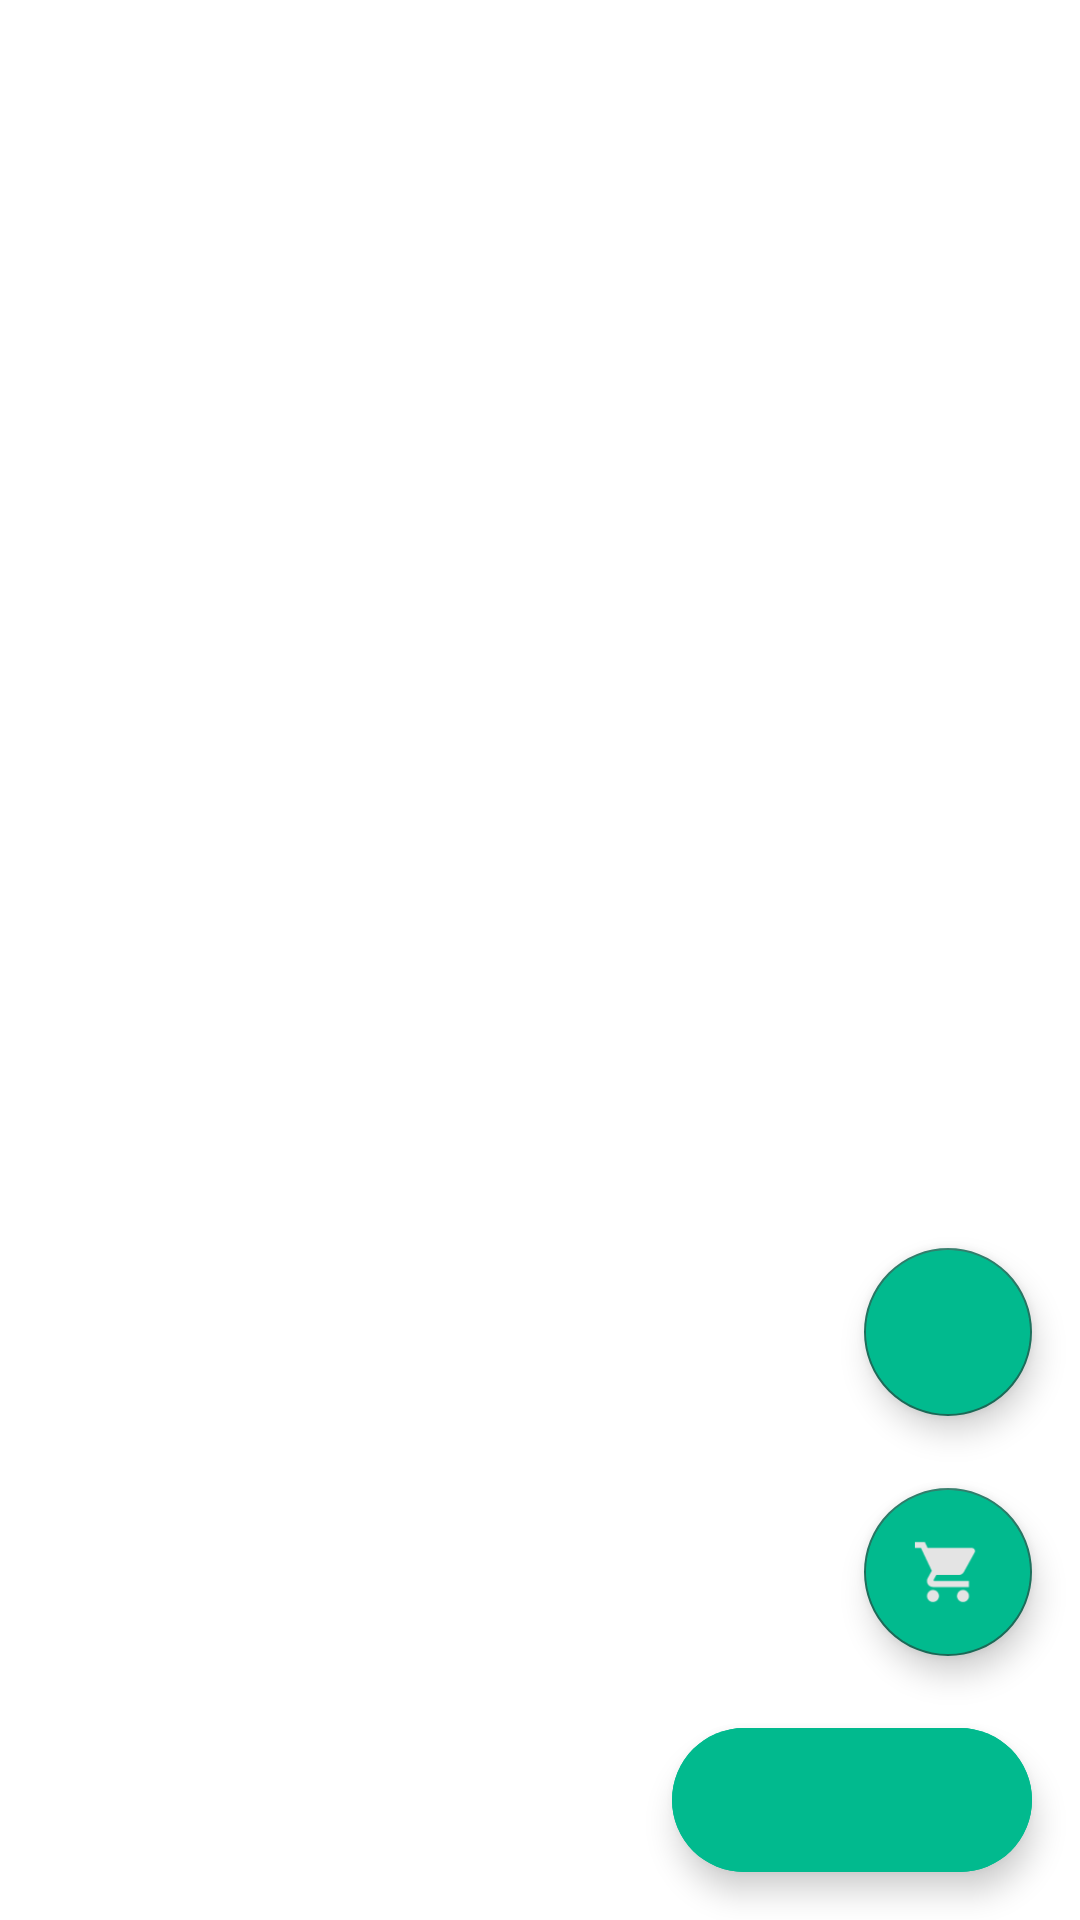

Locate icon controls on the screen. Image size 1080px x 1920px, boxes as bbox(x1, y1, x2, y2).
shopping cart: bbox(864, 1488, 1032, 1656)
